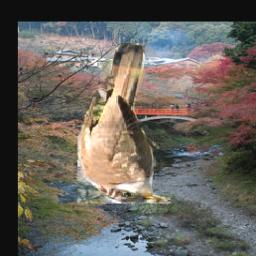Cuckoo: (77, 44, 171, 204)
